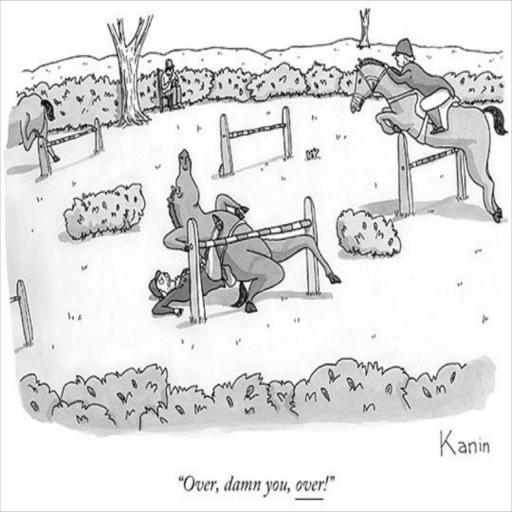horse: (164, 148, 342, 316), (348, 55, 508, 220)
